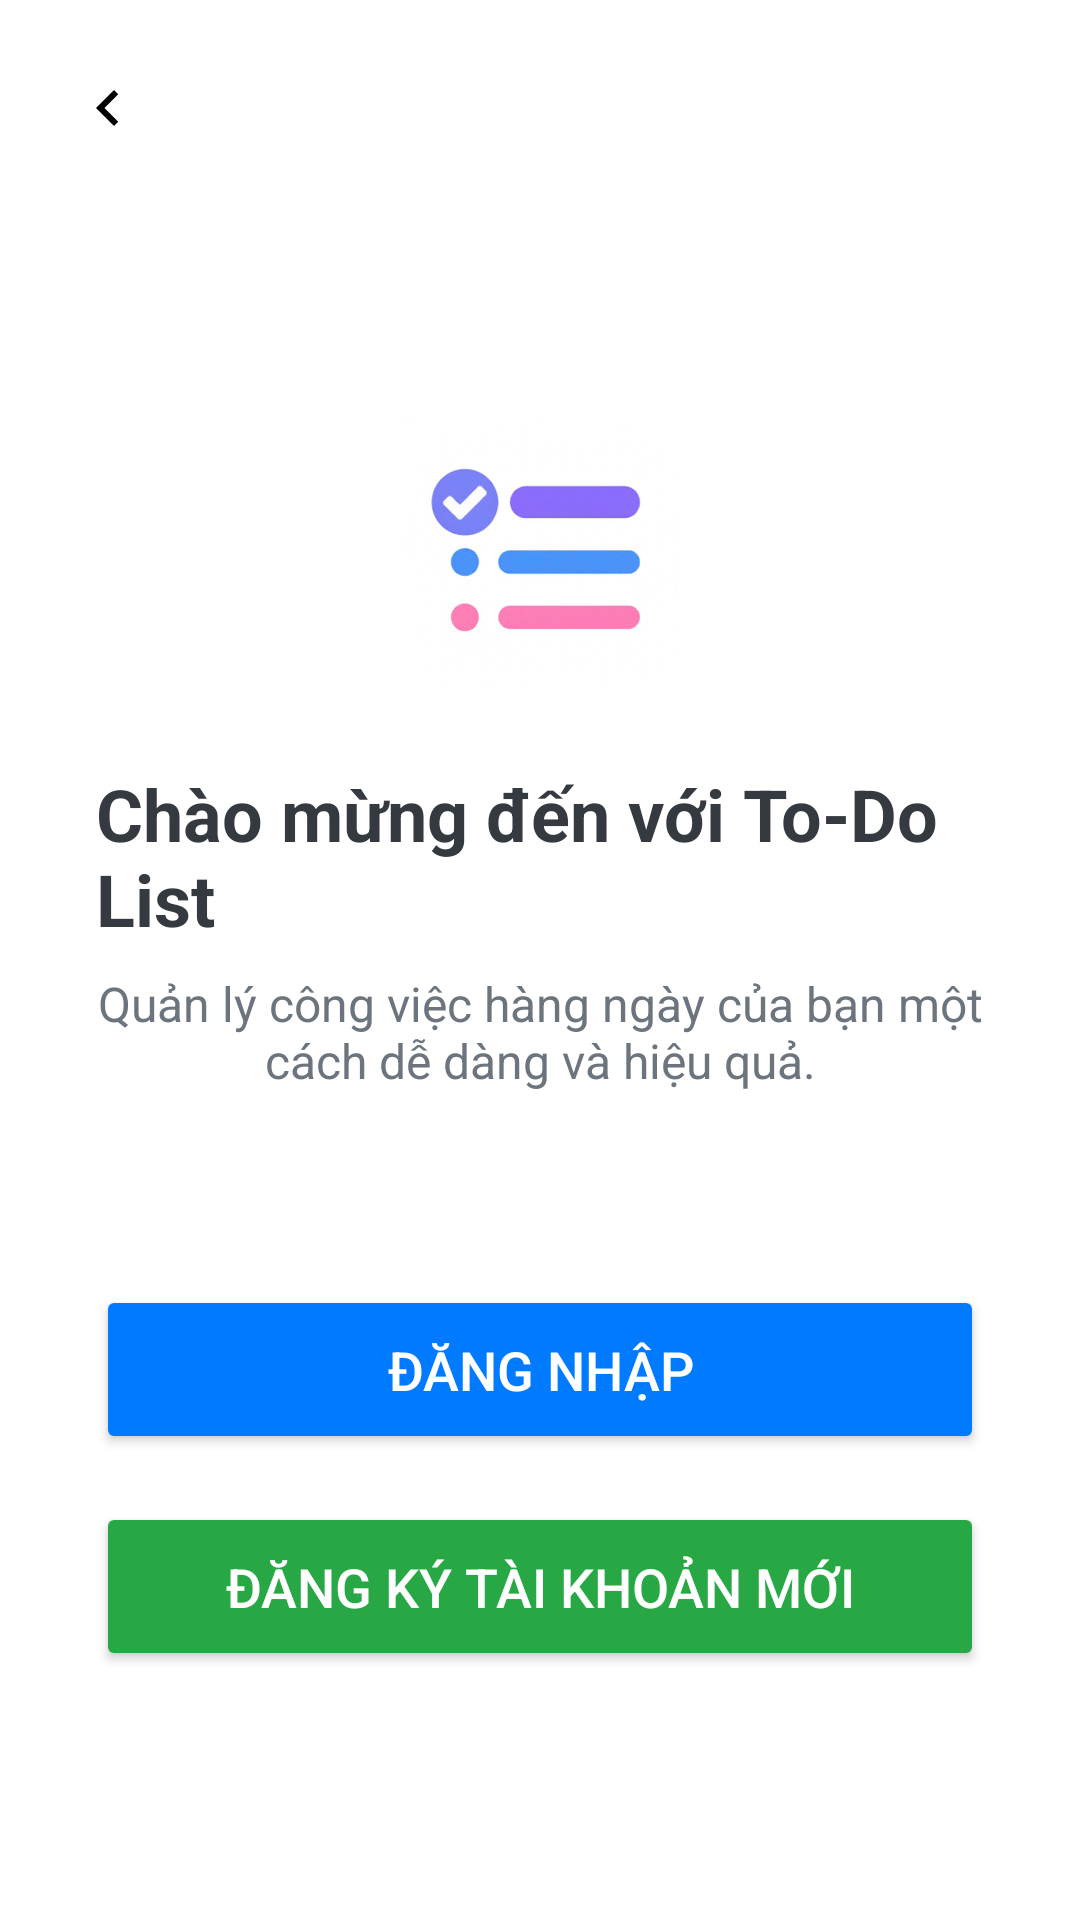

Screen size 1080×1920. Icon name, then its center in pixels as [x,y]:
Biểu tượng ứng dụng To-Do List: [535,550]
Quay lại: [107,108]
